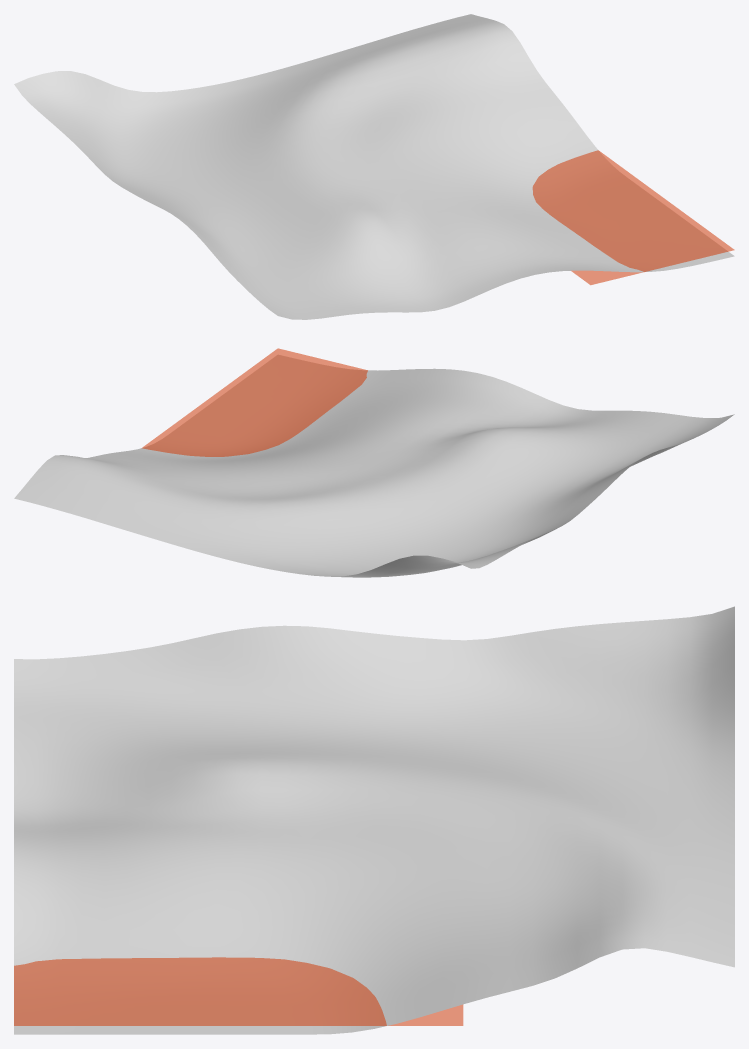
The model's file is chunk_-4_1.glb.
3 views of the same model, one above another, from view 1: azimuth 30°, elevation 25°; view 2: azimuth 150°, elevation 25°; view 3: azimuth 270°, elevation 25° (orthographic). The views are drawn at different scales.
Visible parts, largest first — view 1: chunk_-4_1-col, lava-lava; view 2: chunk_-4_1-col, lava-lava; view 3: chunk_-4_1-col, lava-lava.
Part boxes in pixels (left/top/right/bottom): chunk_-4_1-col: left=14, top=14, right=734, bottom=319; lava-lava: left=532, top=150, right=734, bottom=284; chunk_-4_1-col: left=14, top=354, right=734, bottom=577; lava-lava: left=142, top=348, right=367, bottom=456; chunk_-4_1-col: left=14, top=606, right=734, bottom=1034; lava-lava: left=14, top=957, right=463, bottom=1025.
Size of the model in its own units: 64 by 12.56 by 64.
